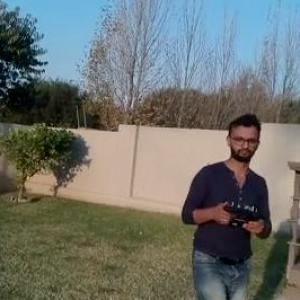follow: (175, 107, 276, 299)
